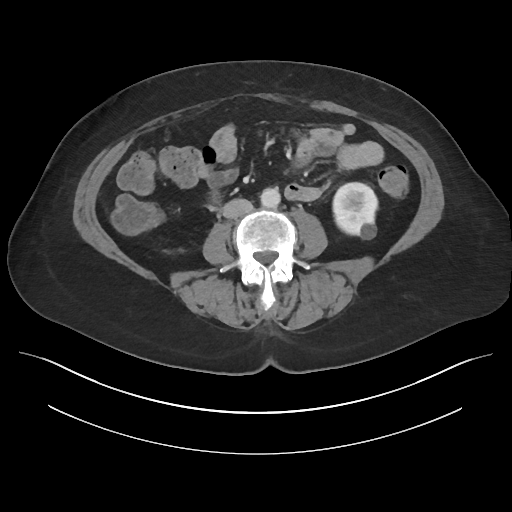Lesion: (356, 220, 381, 243)
